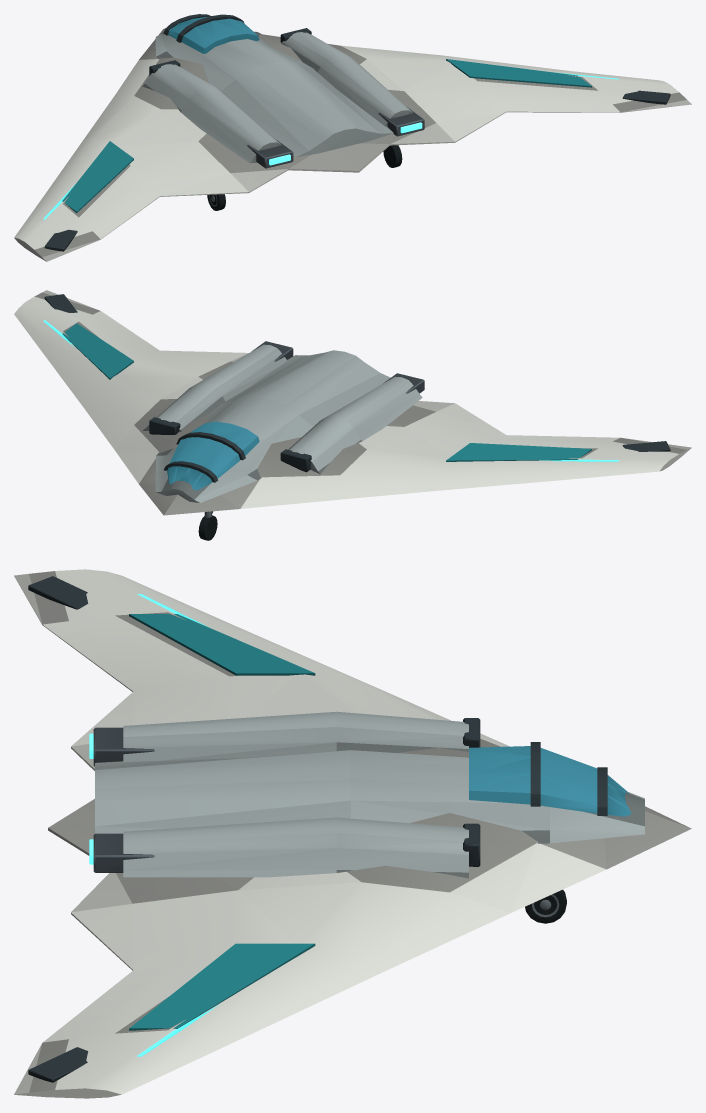
File: ShrikeBomber.glb
3 renders of one model, top to bottom at view 1: azimuth 30°, elevation 25°; view 2: azimuth 150°, elevation 25°; view 3: azimuth 270°, elevation 25°, orthographic. The views are drawn at different scales.
Visible parts, largest first — view 1: export_helix_ShrikeBomber_BlendedWingBody; view 2: export_helix_ShrikeBomber_BlendedWingBody; view 3: export_helix_ShrikeBomber_BlendedWingBody.
Part boxes in pixels (x1,y1,x2,y2): export_helix_ShrikeBomber_BlendedWingBody: [14, 14, 691, 261]; export_helix_ShrikeBomber_BlendedWingBody: [14, 290, 691, 540]; export_helix_ShrikeBomber_BlendedWingBody: [14, 569, 691, 1098].
Bounding box in the file's own units: 8.64 × 1.31 × 4.77.
